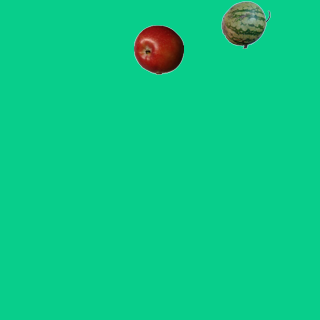Apple Braeburn: (133, 24, 183, 74)
Watermelon: (220, 0, 270, 49)
